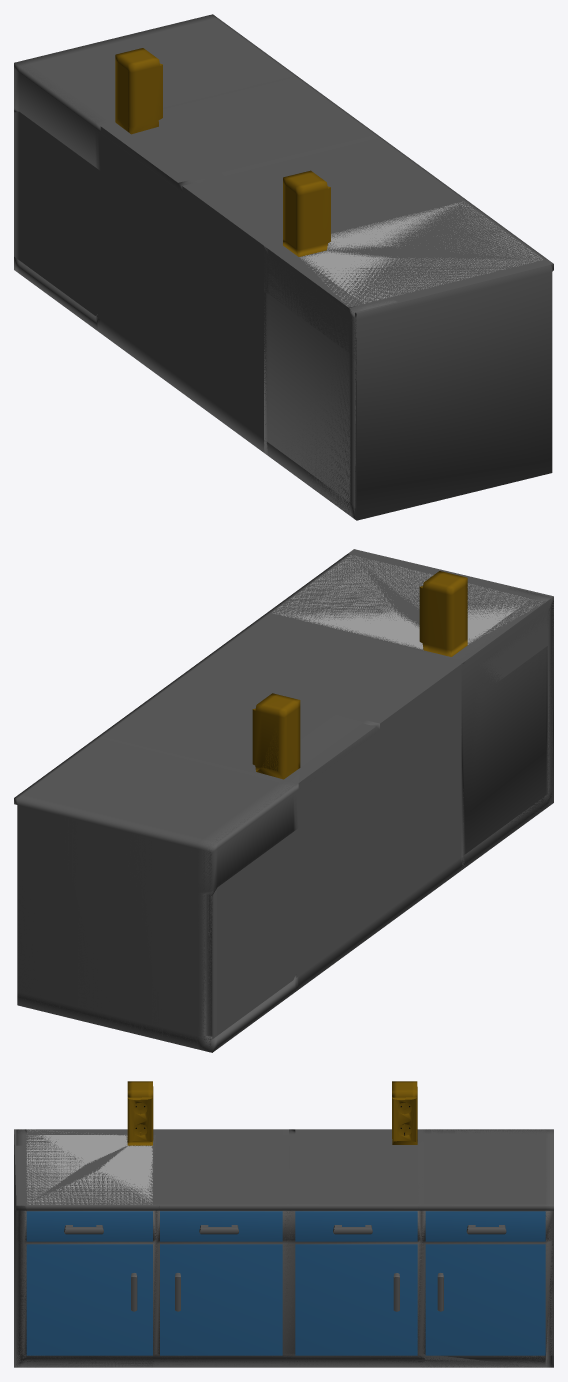
File: Movel2.0.fbx
3 renders of one model, top to bottom at view 1: azimuth 30°, elevation 25°; view 2: azimuth 150°, elevation 25°; view 3: azimuth 270°, elevation 25°, orthographic. The views are drawn at different scales.
Visible parts, largest first — view 1: pCube3, pCube4; view 2: pCube3, pCube4; view 3: pCube4, pCube3.
Boxes of the visible parts, x1=… form: pCube3: x1=14, y1=14, x2=553, y2=519; pCube4: x1=15, y1=15, x2=553, y2=520; pCube3: x1=14, y1=549, x2=552, y2=1052; pCube4: x1=17, y1=551, x2=553, y2=1052; pCube4: x1=14, y1=1106, x2=553, y2=1367; pCube3: x1=16, y1=1081, x2=553, y2=1367.
Size of the model in its own units: 4.32 by 5.37 by 12.1.
